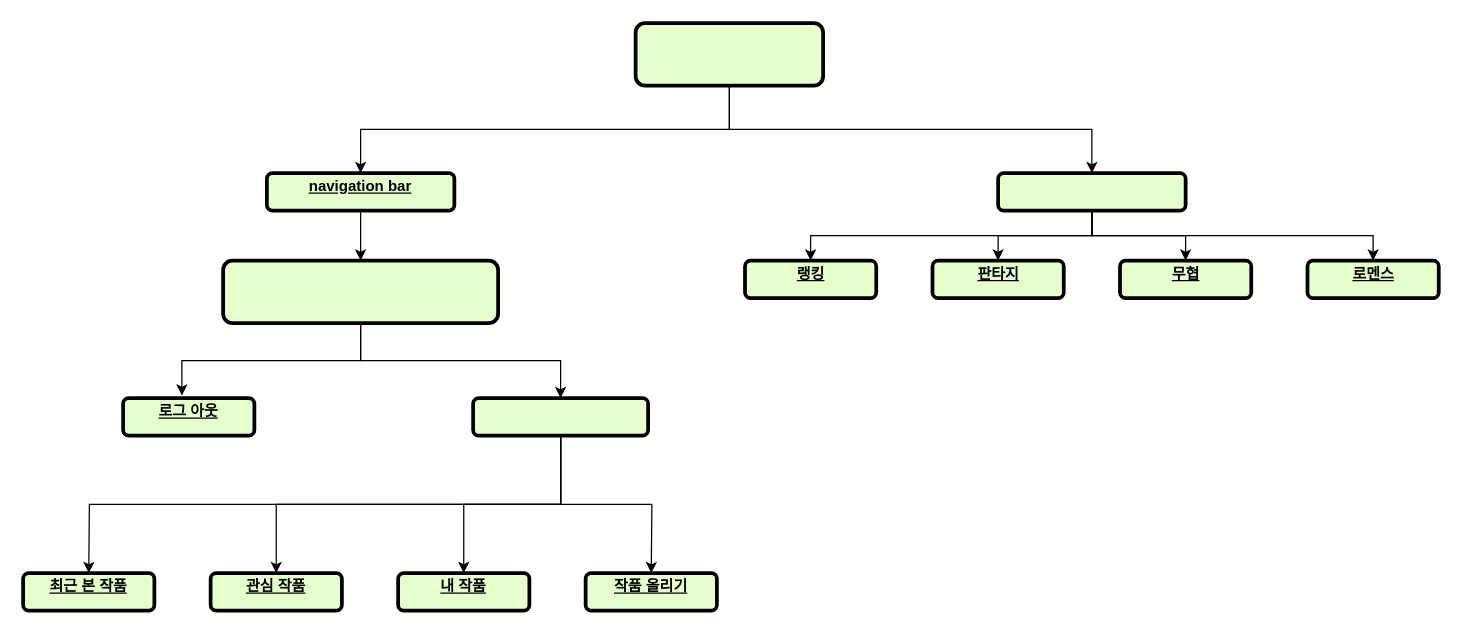
Some shapes in this 1463 by 634 pixel diagram are drawn without their labels. The box of each missing label's shape, as (x1, y1, x2, y2) in pixels:
렌딩 페이지 구름책방 소개 및 기능 설명: (633, 21, 824, 87)
마이 페이지 (MY): (471, 396, 649, 437)
메인 페이지: (996, 171, 1187, 212)
소셜 로그인 (Kakaotalk, Google, Facebook): (221, 258, 499, 324)
